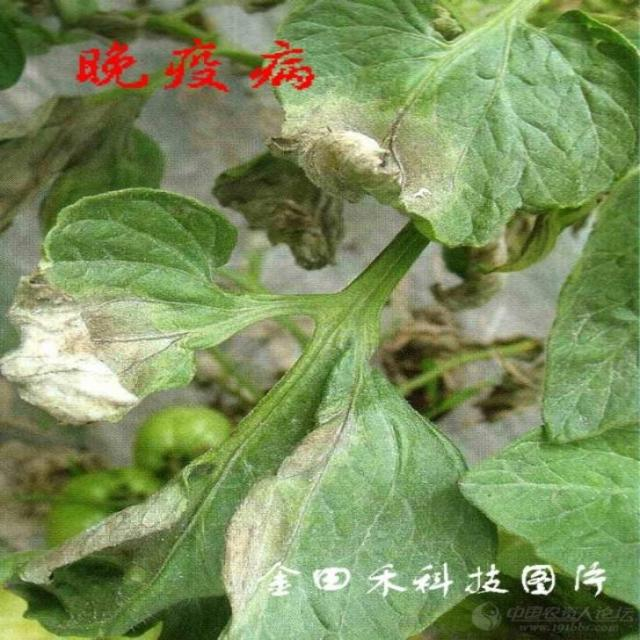Late_blight: (4, 264, 199, 424), (217, 413, 344, 638), (25, 456, 193, 589), (274, 97, 458, 212), (1, 91, 141, 237), (217, 158, 344, 272)
